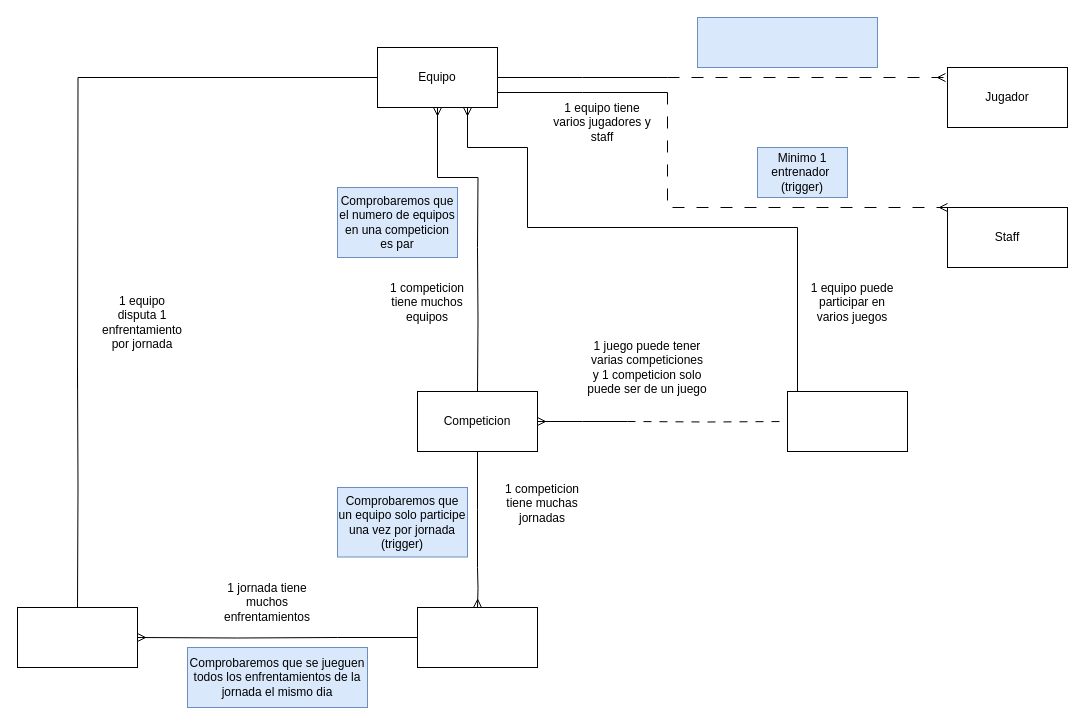
Some shapes in this 1085 by 725 pixel diagram are drawn without their labels. The box of each missing label's shape, as (x1, y1, x2, y2) in pixels:
Enfrentamientos: (16, 606, 138, 668)
Jornadas: (416, 606, 538, 668)
Juego: (786, 390, 908, 452)
Maximo 6 jugadores por equipo y minimo 2 (utilizaremos un trigger): (696, 16, 878, 68)
